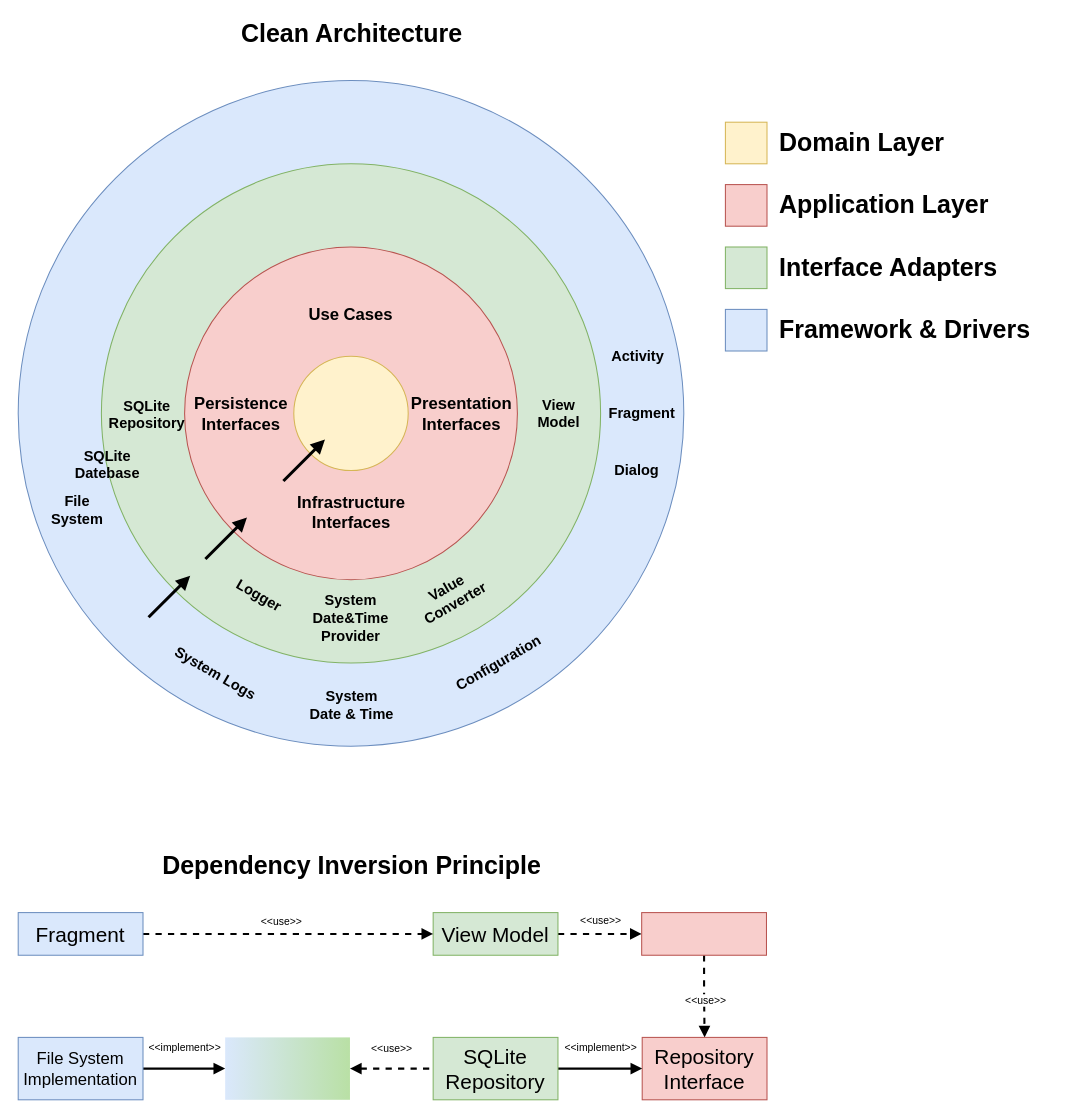
The diagram is 1076 pixels wide and 1118 high, and some of its shapes have lost their labels. The shapes that lost their labels are listed below. From the top down, each one's centre as x and y in pixels, then its label:
the point at 350,413: Entities
the point at 703,933: Use Case
the point at 287,1068: SQLite Database
